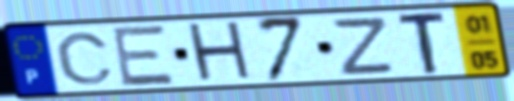7: (256, 14, 309, 85)
C: (53, 30, 117, 87)
E: (111, 23, 178, 89)
H: (183, 19, 257, 87)
T: (395, 9, 449, 77)
Z: (332, 15, 397, 78)
